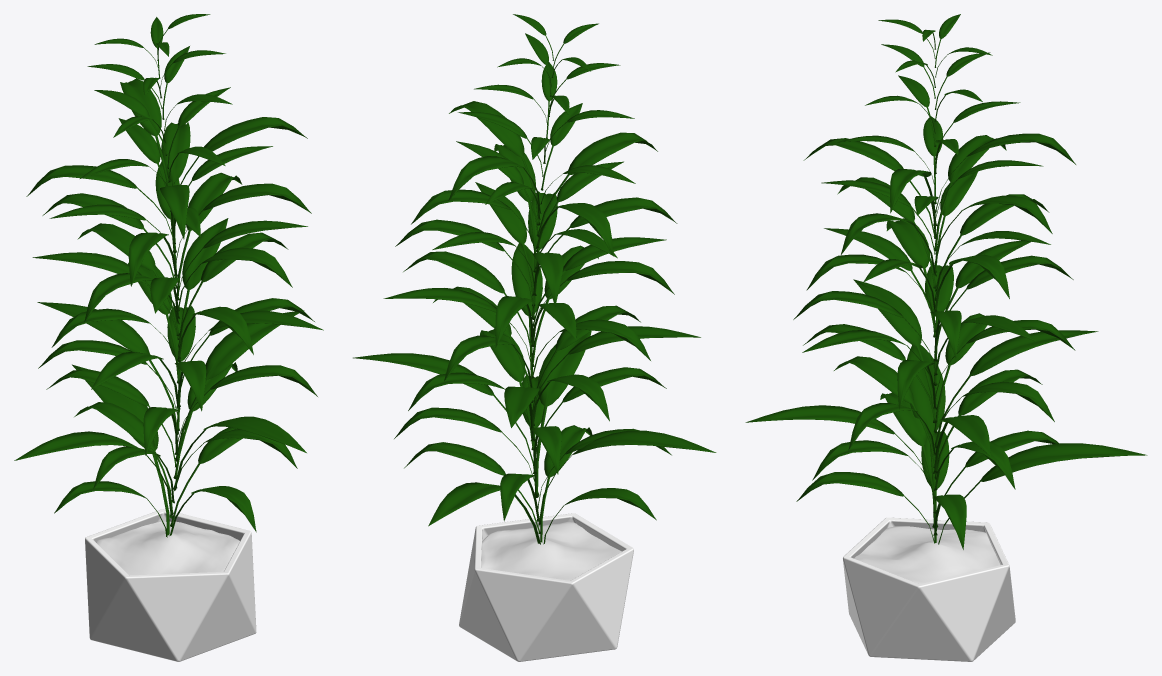
File: B_Plant_A.fbx
The picture shows the model from 3 angles, left to right: view 1: azimuth 30°, elevation 25°; view 2: azimuth 150°, elevation 25°; view 3: azimuth 270°, elevation 25°; orthographic projection.
Visible parts, largest first — view 1: B_Plant_A; view 2: B_Plant_A; view 3: B_Plant_A.
Boxes of the visible parts, bbox=[...] form: B_Plant_A: bbox=[14, 14, 323, 661]; B_Plant_A: bbox=[353, 14, 716, 661]; B_Plant_A: bbox=[745, 14, 1147, 661].
Bounding box in the file's own units: 76.76 × 135 × 81.37.
